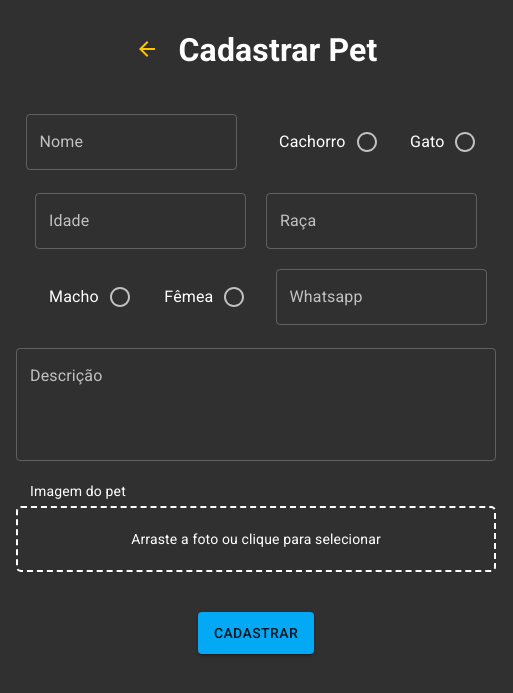
Add pet page (direct interaction) › should not allow users to register a pet without a breed
Expected: the text "Campo obrigatório" is not shown
Type "Teste" into the element with test id "name".
click(132, 144); type("Teste")  # box [26,114,237,173]
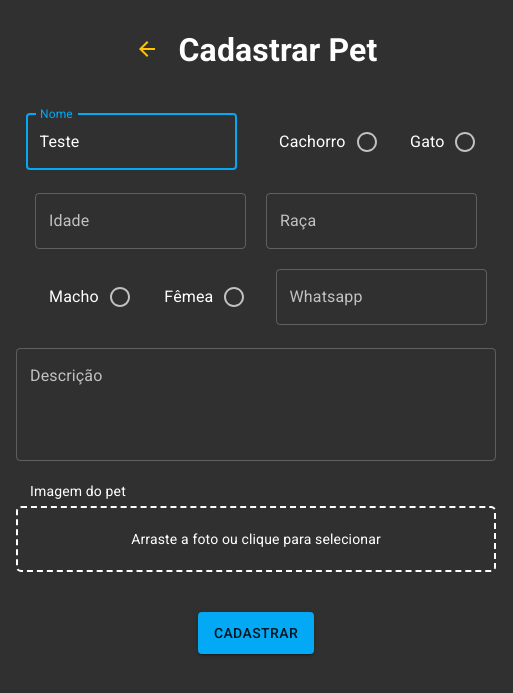
Click the icon with test id "type-dog".
click(367, 142)  # box [355,130,379,154]
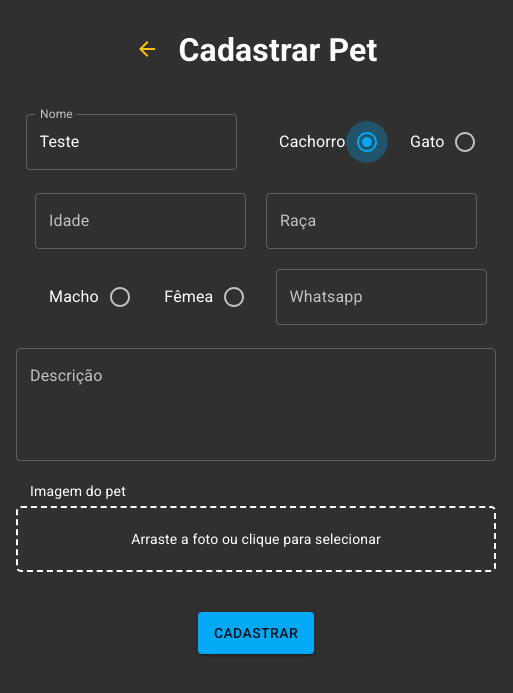
Type "10" into the element with test id "age".
click(141, 221); type("10")  # box [35,193,246,249]
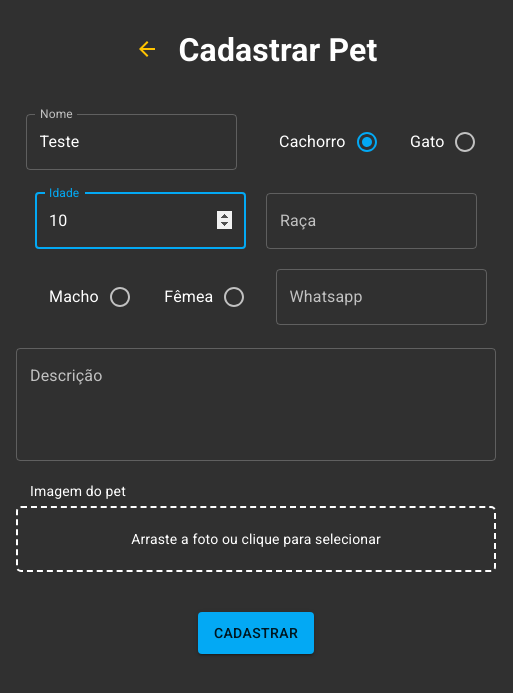
Click the icon with test id "sex-male".
click(120, 297)  # box [108,285,132,309]
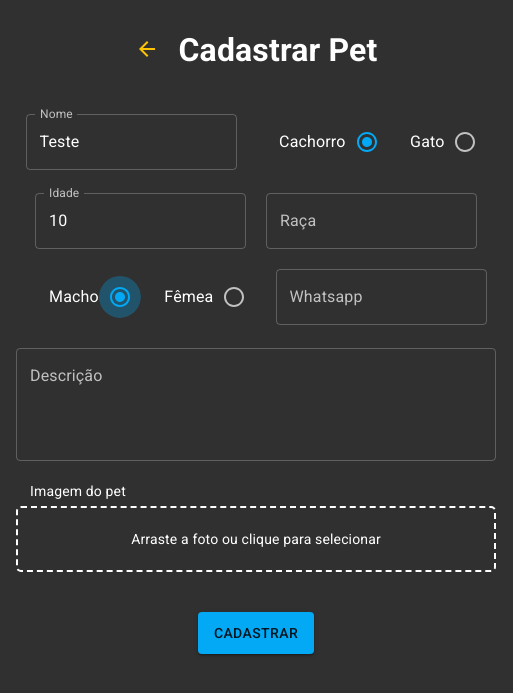
Type "83996481242" into the element with test id "phone".
click(382, 299); type("83996481242")  # box [276,269,487,328]
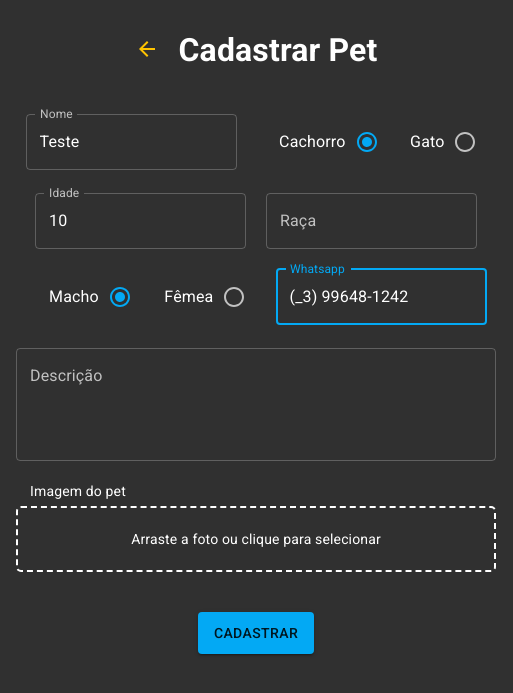
Click the button with test id "submit-button".
click(256, 633)  # box [198,612,314,654]
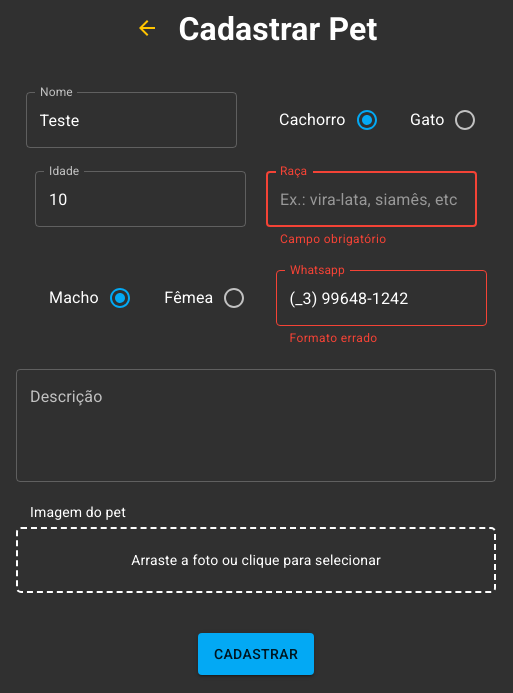
Now the text "Campo obrigatório" is shown, box [280,232,386,246]
